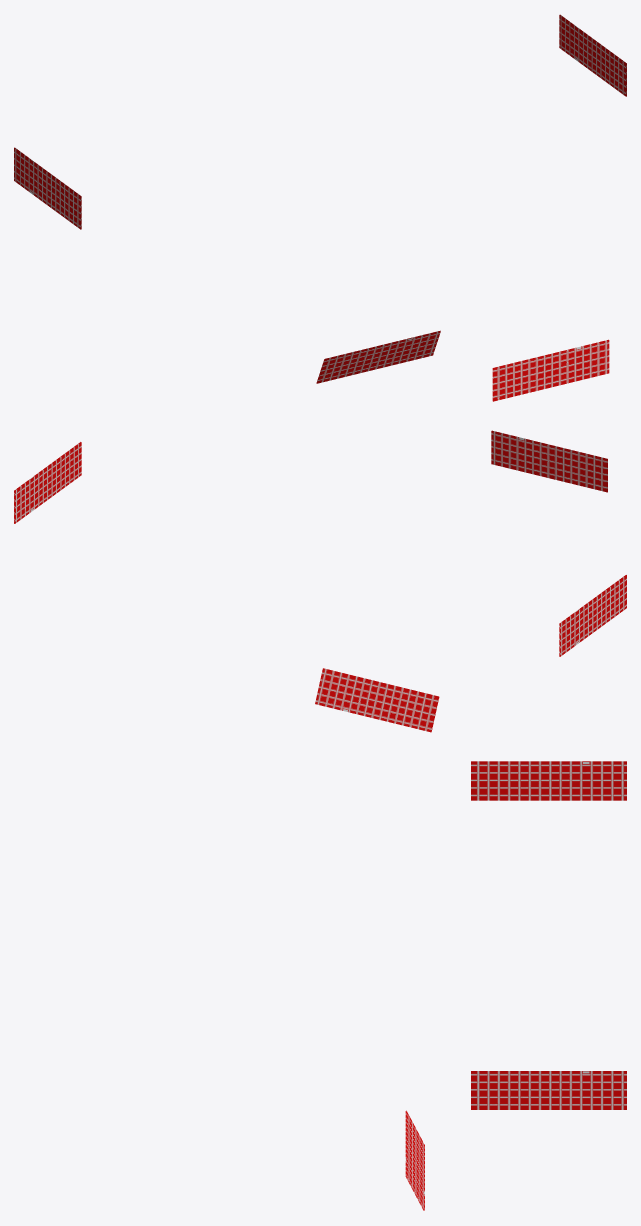
Rendered from H_L_Doors.fbx.
3 renders of one model, top to bottom at view 1: azimuth 30°, elevation 25°; view 2: azimuth 150°, elevation 25°; view 3: azimuth 270°, elevation 25°, orthographic. The views are drawn at different scales.
Parts seen in each view (by area): view 1: polySurface220; view 2: polySurface220; view 3: polySurface220.
Part boxes in pixels (left/top/right/bottom): polySurface220: left=14, top=14, right=626, bottom=401; polySurface220: left=14, top=430, right=626, bottom=732; polySurface220: left=405, top=761, right=626, bottom=1210.
Bounding box in the file's own units: 11253 × 4434 × 9411.
1 material, 1 textured.
